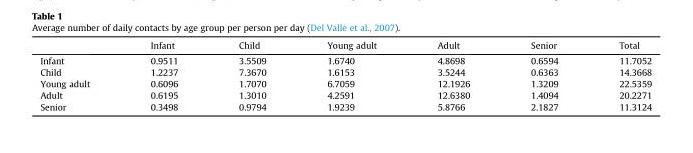table: (39, 39, 651, 111)
table column: (296, 39, 406, 111), (406, 39, 499, 111), (207, 39, 296, 111), (499, 39, 588, 111), (119, 39, 207, 111), (39, 39, 119, 111), (588, 39, 651, 111)
table column header: (39, 39, 651, 52)
table row: (39, 39, 651, 52), (39, 52, 651, 65), (39, 65, 651, 77), (39, 88, 651, 100), (39, 77, 651, 88), (39, 100, 651, 111)
